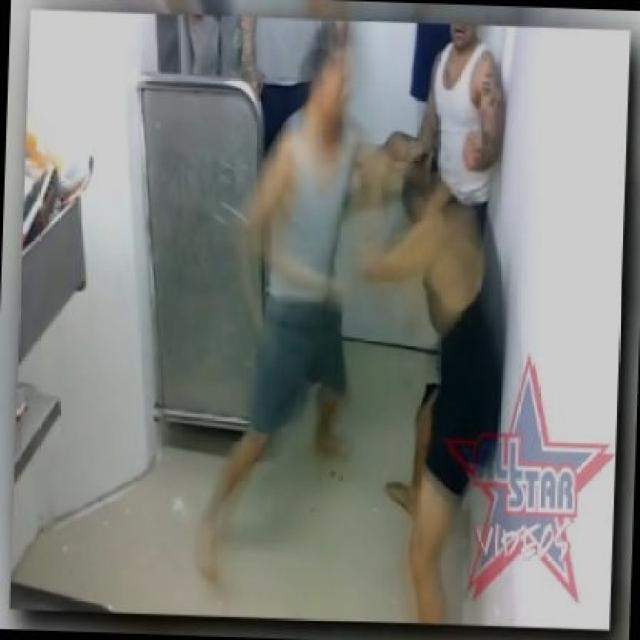fight: (189, 54, 509, 620)
